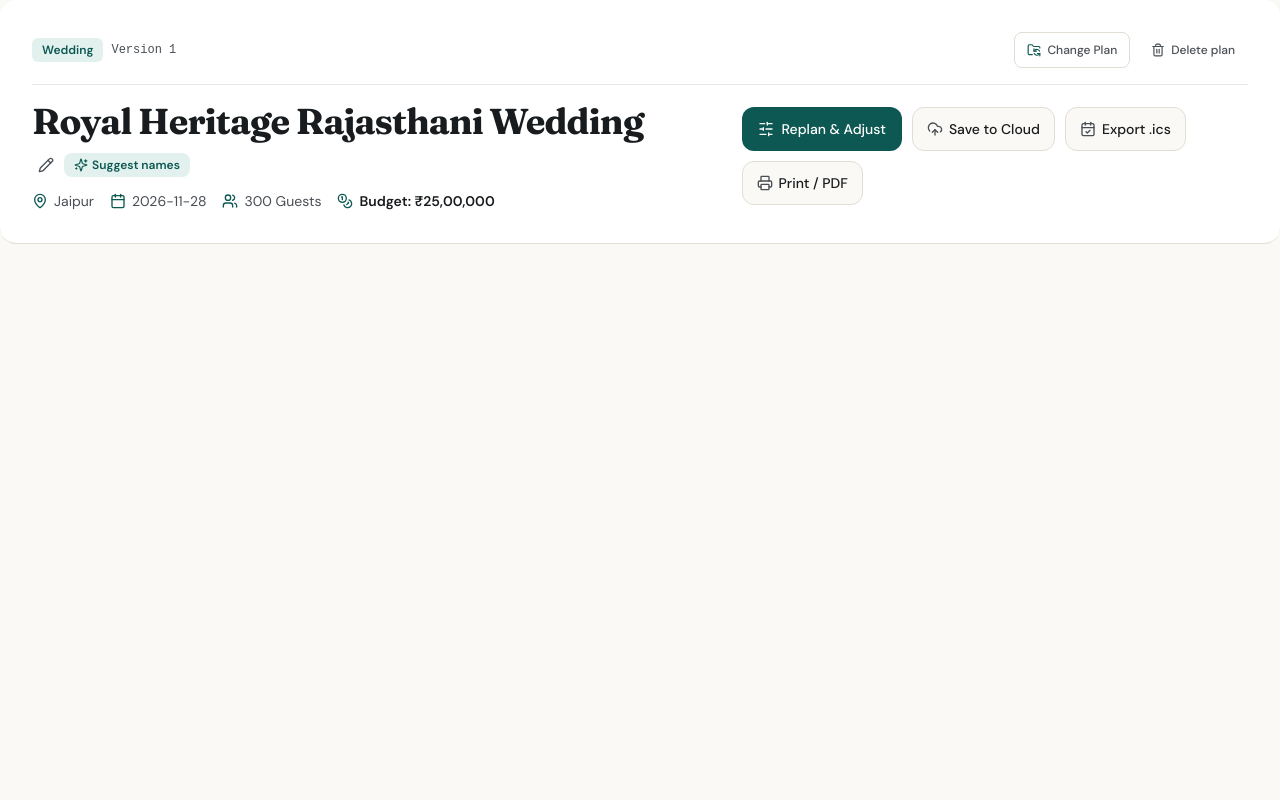
Scenario: Workspace Actions (Delete Plan, Change Plan, Inline Title Edit) › opens delete confirmation dialog and allows canceling safely
Click the button with aria-label "Delete celebration plan". click: (1193, 50)
box: [1138, 32, 1248, 68]
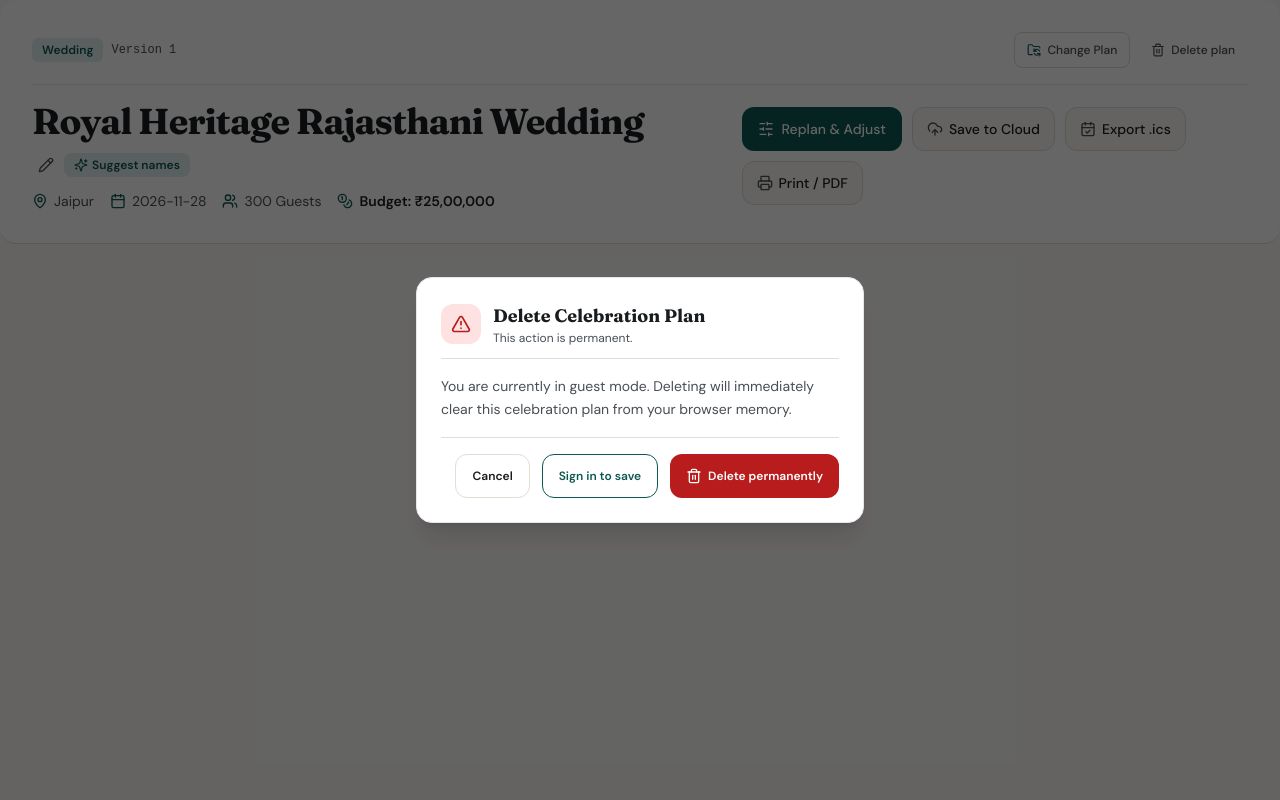
expect the dialog "Delete Celebration Plan" is shown: met, box [416, 277, 864, 523]
Cancel closes dialog
Click the button "Cancel". click: (493, 476)
box: [456, 454, 530, 498]
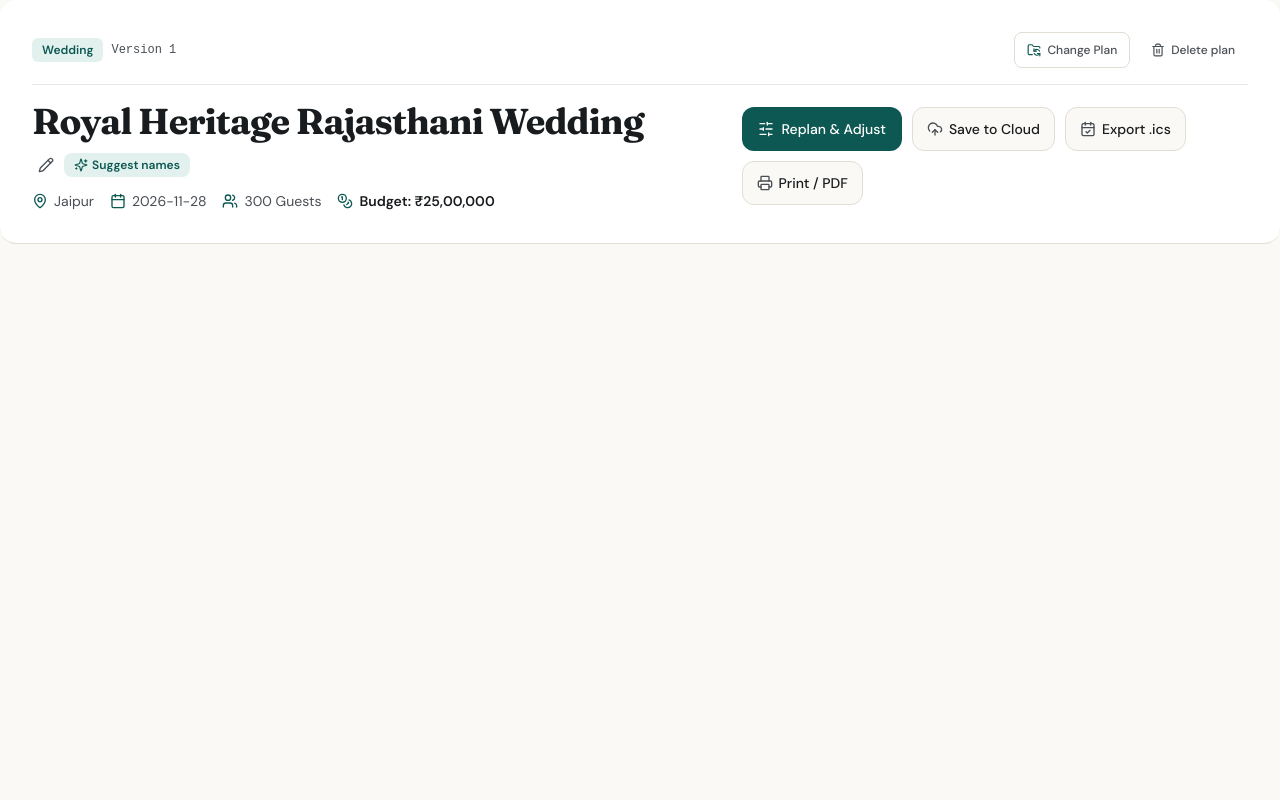
expect the heading "Delete Celebration Plan" is gone: met
